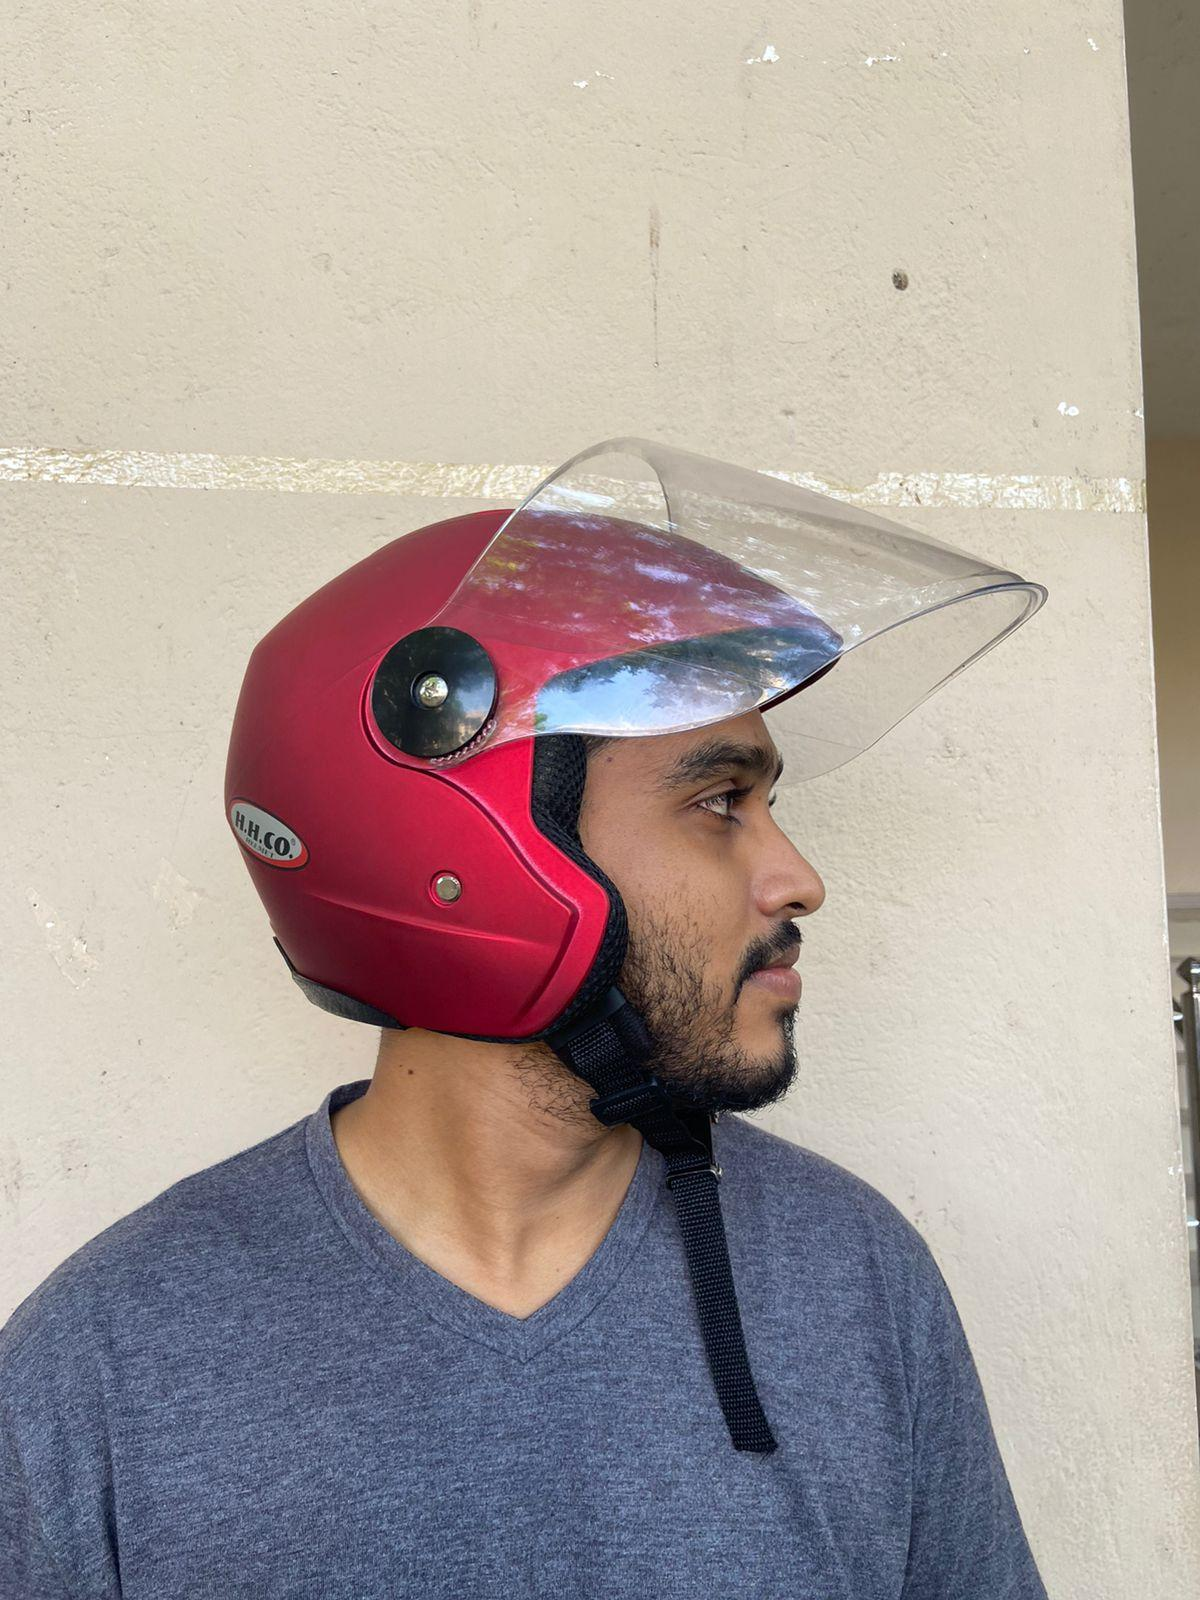helmet: (218, 432, 1049, 1052)
